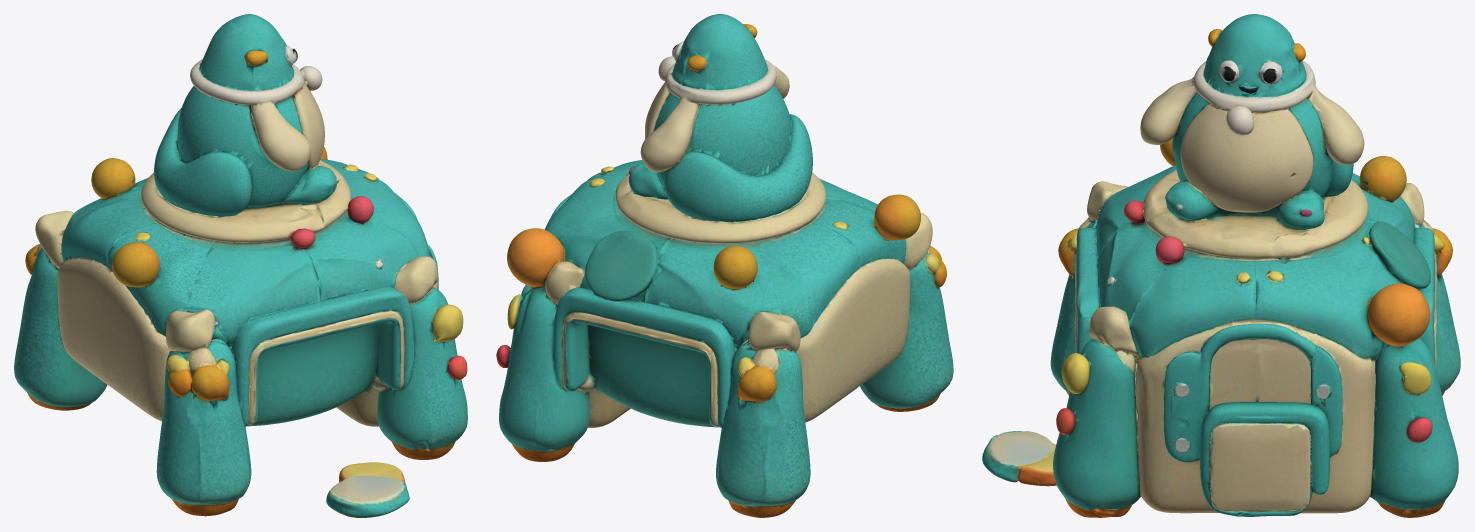
File: env_nest_kiosk_map_01.glb
The picture shows the model from 3 angles, left to right: view 1: azimuth 30°, elevation 25°; view 2: azimuth 150°, elevation 25°; view 3: azimuth 270°, elevation 25°; orthographic projection. The views are drawn at different scales.
Parts seen in each view (by area): view 1: tripo_node_2243a903-157e-4251-822a-423c190c59e3; view 2: tripo_node_2243a903-157e-4251-822a-423c190c59e3; view 3: tripo_node_2243a903-157e-4251-822a-423c190c59e3.
Boxes of the visible parts, x1=… form: tripo_node_2243a903-157e-4251-822a-423c190c59e3: x1=14, y1=14, x2=467, y2=517; tripo_node_2243a903-157e-4251-822a-423c190c59e3: x1=496, y1=14, x2=953, y2=517; tripo_node_2243a903-157e-4251-822a-423c190c59e3: x1=982, y1=14, x2=1460, y2=517.
Size of the model in its own units: 1.9 by 2.2 by 2.15.
Materials: 1 (1 with a texture image).
